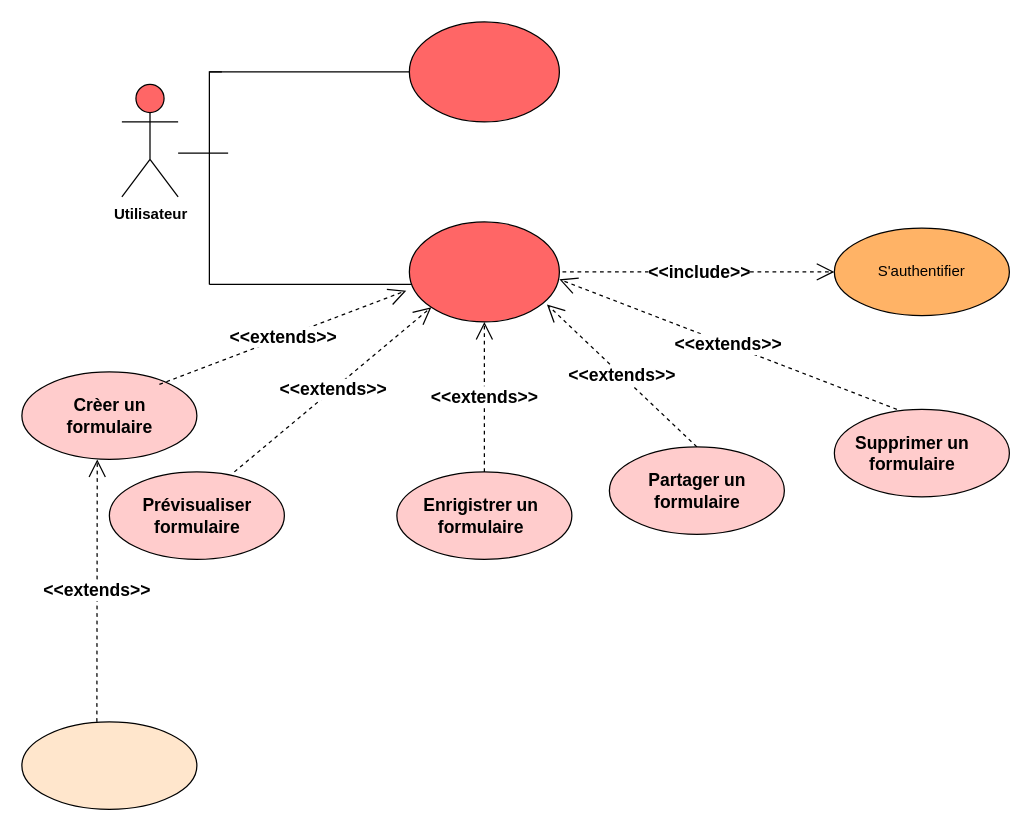
Some shapes in this 1031 by 831 pixel diagram are drawn without their labels. Each missing label, with the box of its shape:
Ajouter des champs: (21, 721, 197, 809)
Créer un compte: (408, 21, 559, 122)
Gèrer les formulaires: (408, 221, 559, 322)
